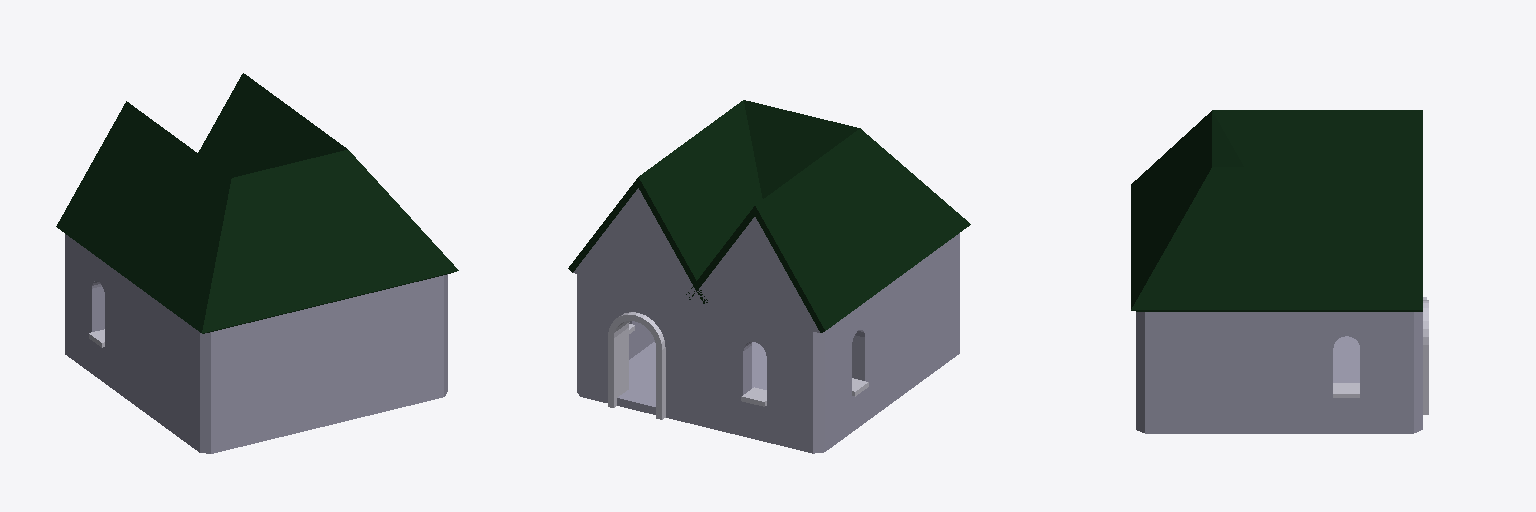
File: House_4.obj
3 renders of one model, left to right at view 1: azimuth 30°, elevation 25°; view 2: azimuth 150°, elevation 25°; view 3: azimuth 270°, elevation 25°, orthographic.
Bounding box in the file's own units: 2.21 × 1.92 × 2.22.